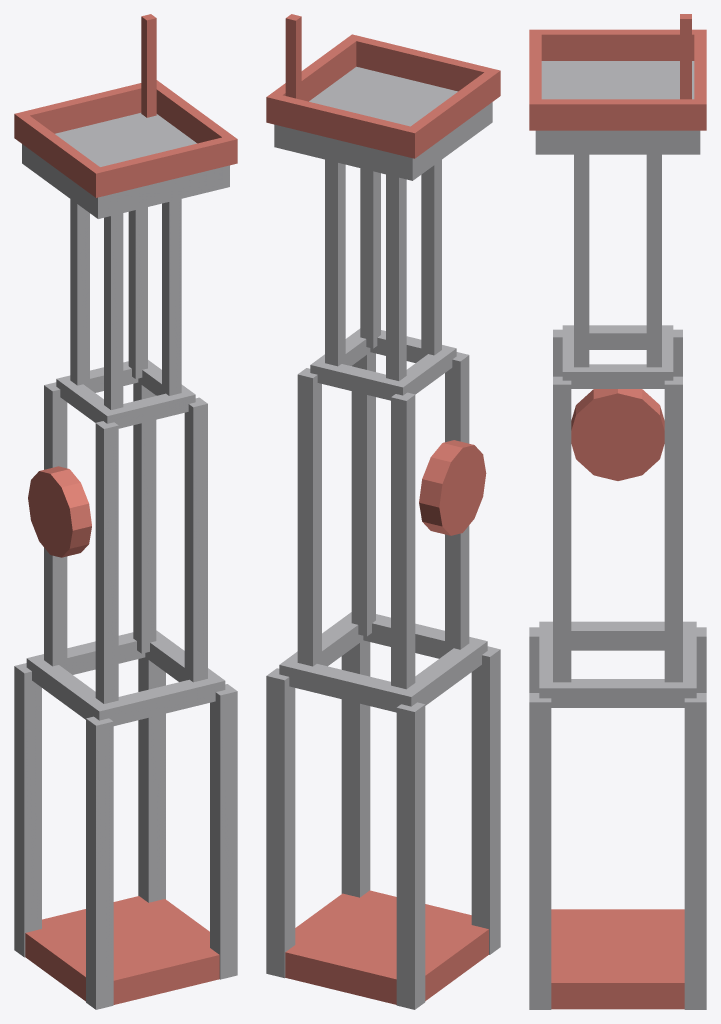
File: comms_tower.glb
3 renders of one model, left to right at view 1: azimuth 30°, elevation 25°; view 2: azimuth 150°, elevation 25°; view 3: azimuth 270°, elevation 25°, orthographic. The views are drawn at different scales.
Visible parts, largest first — view 1: CommsTower, accent_CommsTower; view 2: CommsTower, accent_CommsTower; view 3: CommsTower, accent_CommsTower.
Boxes of the visible parts, <box> form: CommsTower: <box>14,113,237,1009</box>; accent_CommsTower: <box>14,14,237,1004</box>; CommsTower: <box>266,66,500,1009</box>; accent_CommsTower: <box>266,14,500,1004</box>; CommsTower: <box>529,61,706,1009</box>; accent_CommsTower: <box>529,14,706,1009</box>.
Size of the model in its own units: 0.3775 by 2.24 by 0.365.
